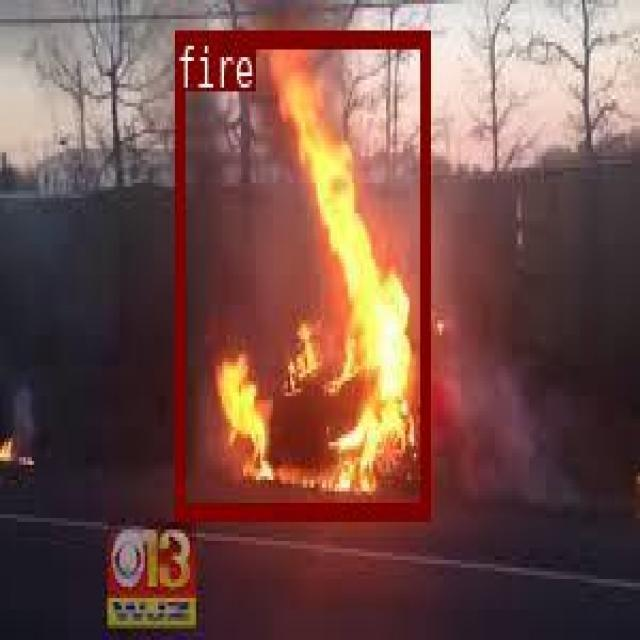fire: (173, 27, 429, 517)
